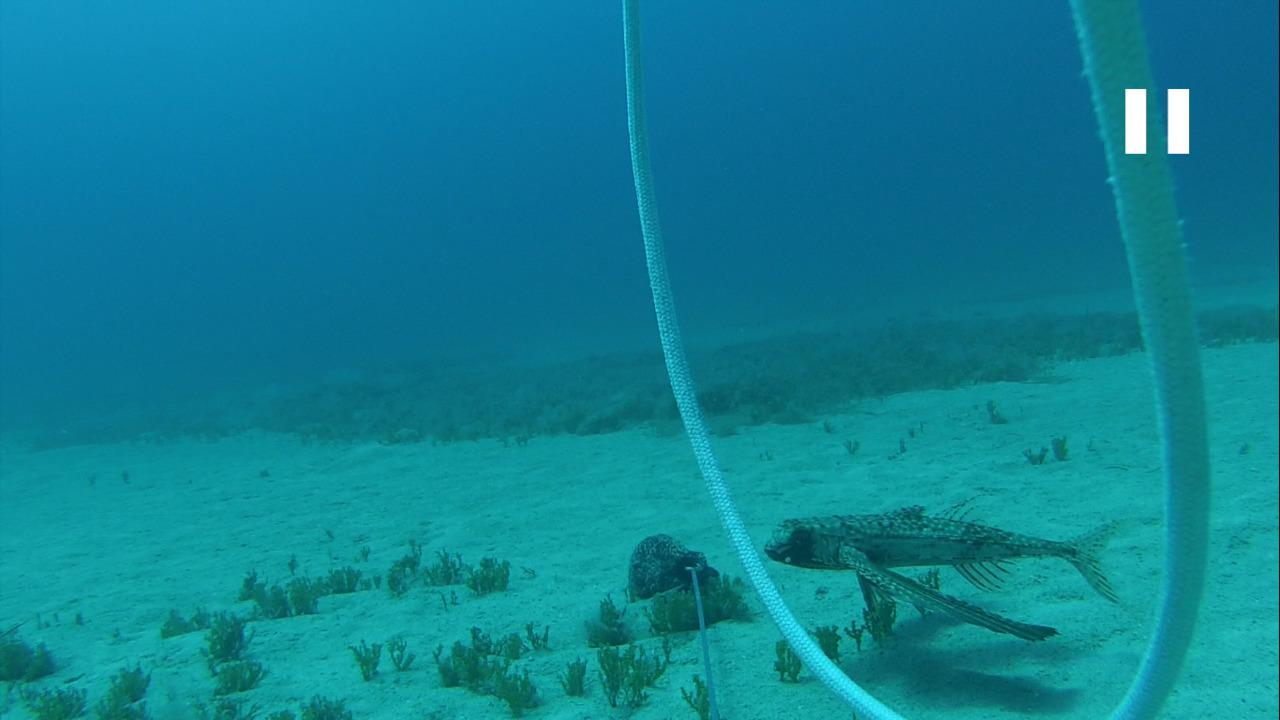dactylopterus: (753, 490, 1128, 638)
